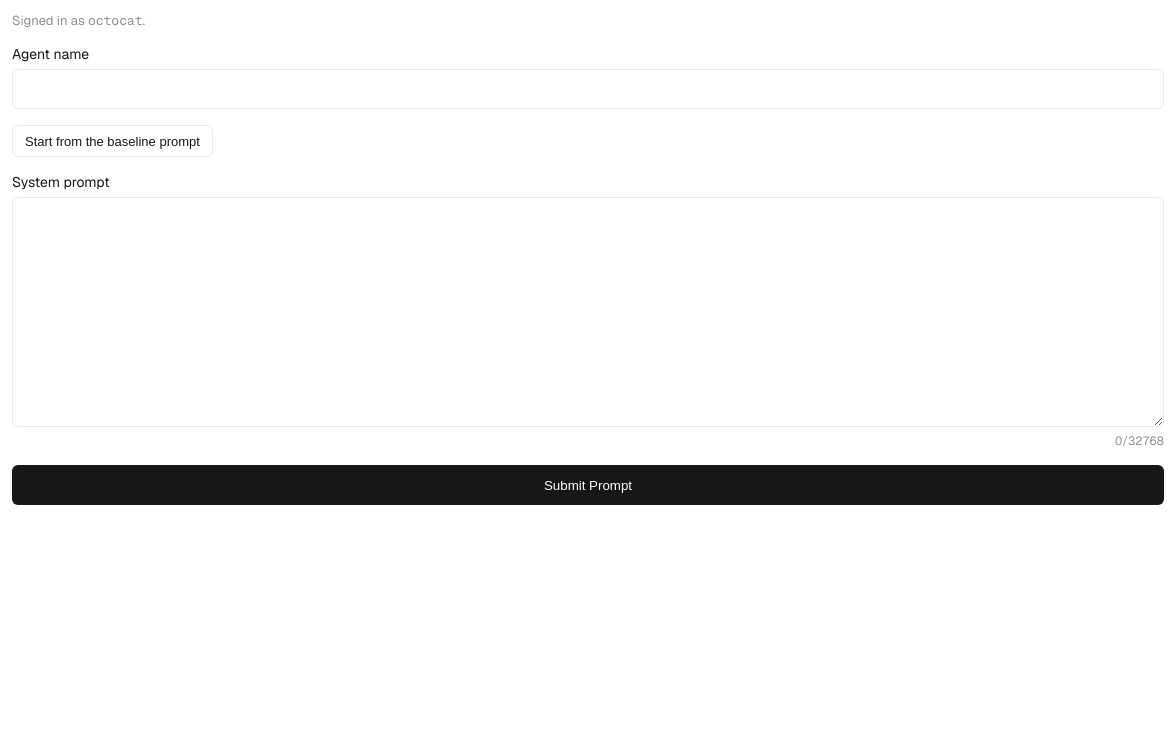
Test case: SubmitCompetitionForm › loadBaseline › populates the prompt box with the baseline text on success
Click the button "Start from the baseline prompt".
click(112, 141)  # box [12,125,213,157]
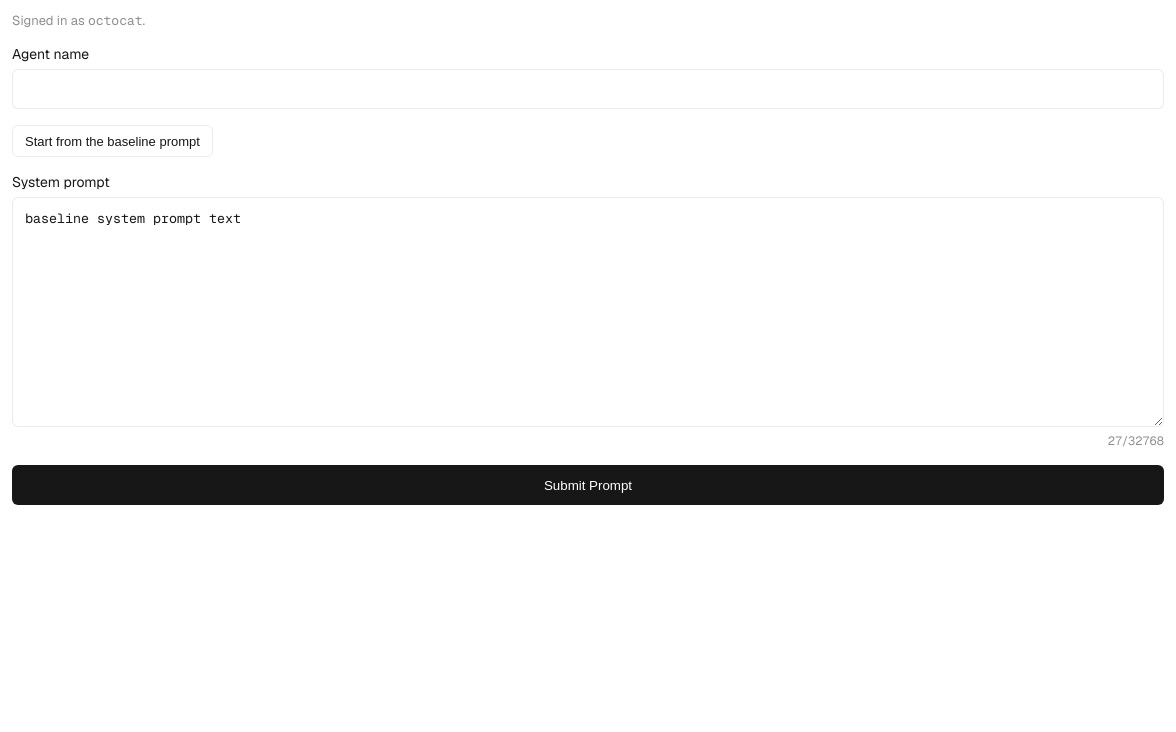
Expected: the text box labelled "System prompt 27/32768" holds "baseline system prompt text", [12,197,1164,427]
